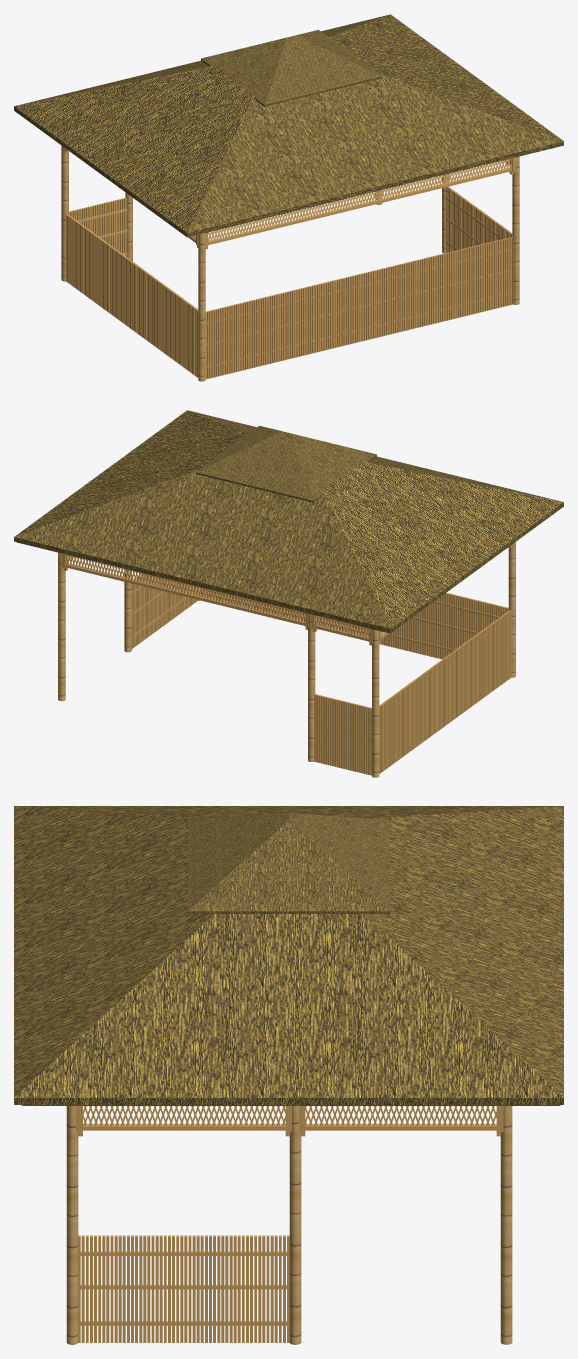
Rendered from NIPA HUT 1.fbx.
3 views of the same model, one above another, from view 1: azimuth 30°, elevation 25°; view 2: azimuth 150°, elevation 25°; view 3: azimuth 270°, elevation 25° (orthographic). The views are drawn at different scales.
Parts seen in each view (by area): view 1: Group2, Group4, Component_72_1, Component_71_1, Component_73_1, Component_74_1, Component_58_2, Component_71_2, Component_68_1, Component_70_1, Component_69_1, Component_58_3 (+8 smaller); view 2: Group2, Group4, Component_75_1, Component_71_1, Component_68_1, Component_70_1, Component_69_1, Component_58_3, Component_83_1, Component_71_2, Fence_Slat_Horizontal_4_1, Component_21_2 (+8 smaller); view 3: Group2, Group4, Component_58_1, Component_83_1, Component_21_4, Component_21_3, Component_3_2, Component_65_1.
Part boxes in pixels (left/top/right/bottom): Group2: left=14, top=14, right=563, bottom=237; Group4: left=201, top=30, right=382, bottom=106; Component_72_1: left=307, top=274, right=359, bottom=354; Component_71_1: left=256, top=287, right=307, bottom=366; Component_73_1: left=359, top=262, right=410, bottom=341; Component_74_1: left=411, top=249, right=462, bottom=329; Component_58_2: left=462, top=237, right=513, bottom=316; Component_71_2: left=205, top=299, right=256, bottom=379; Component_68_1: left=154, top=278, right=185, bottom=367; Component_70_1: left=95, top=235, right=125, bottom=324; Component_69_1: left=125, top=257, right=155, bottom=345; Component_58_3: left=66, top=214, right=96, bottom=302; Group2: left=14, top=410, right=563, bottom=633; Group4: left=195, top=425, right=376, bottom=502; Component_75_1: left=314, top=694, right=371, bottom=775; Component_71_1: left=406, top=592, right=458, bottom=659; Component_68_1: left=465, top=621, right=495, bottom=710; Component_70_1: left=405, top=665, right=436, bottom=753; Component_69_1: left=435, top=643, right=466, bottom=731; Component_58_3: left=379, top=686, right=407, bottom=773; Component_83_1: left=136, top=573, right=166, bottom=644; Component_71_2: left=458, top=595, right=508, bottom=647; Fence_Slat_Horizontal_4_1: left=66, top=564, right=369, bottom=641; Component_21_2: left=372, top=629, right=379, bottom=777; Group2: left=14, top=806, right=563, bottom=1104; Group4: left=188, top=813, right=389, bottom=913; Component_58_1: left=78, top=1235, right=174, bottom=1342; Component_83_1: left=176, top=1235, right=269, bottom=1342; Component_21_4: left=66, top=1106, right=78, bottom=1344; Component_21_3: left=500, top=1106, right=512, bottom=1344; Component_3_2: left=289, top=1106, right=301, bottom=1344; Component_65_1: left=270, top=1235, right=289, bottom=1342.
Size of the model in its own units: 5.88 by 3.81 by 4.69.
